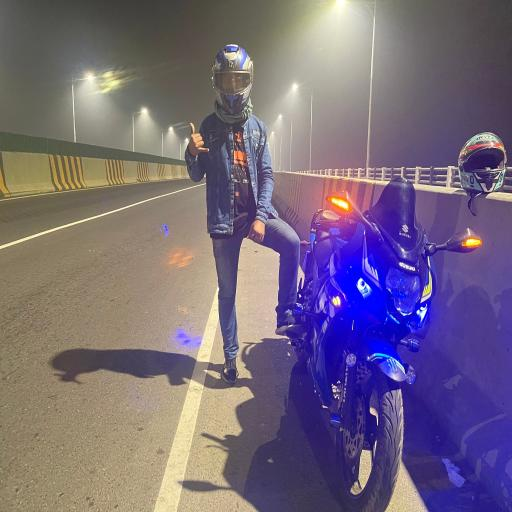helmet: (184, 42, 302, 385), (210, 42, 254, 116)
